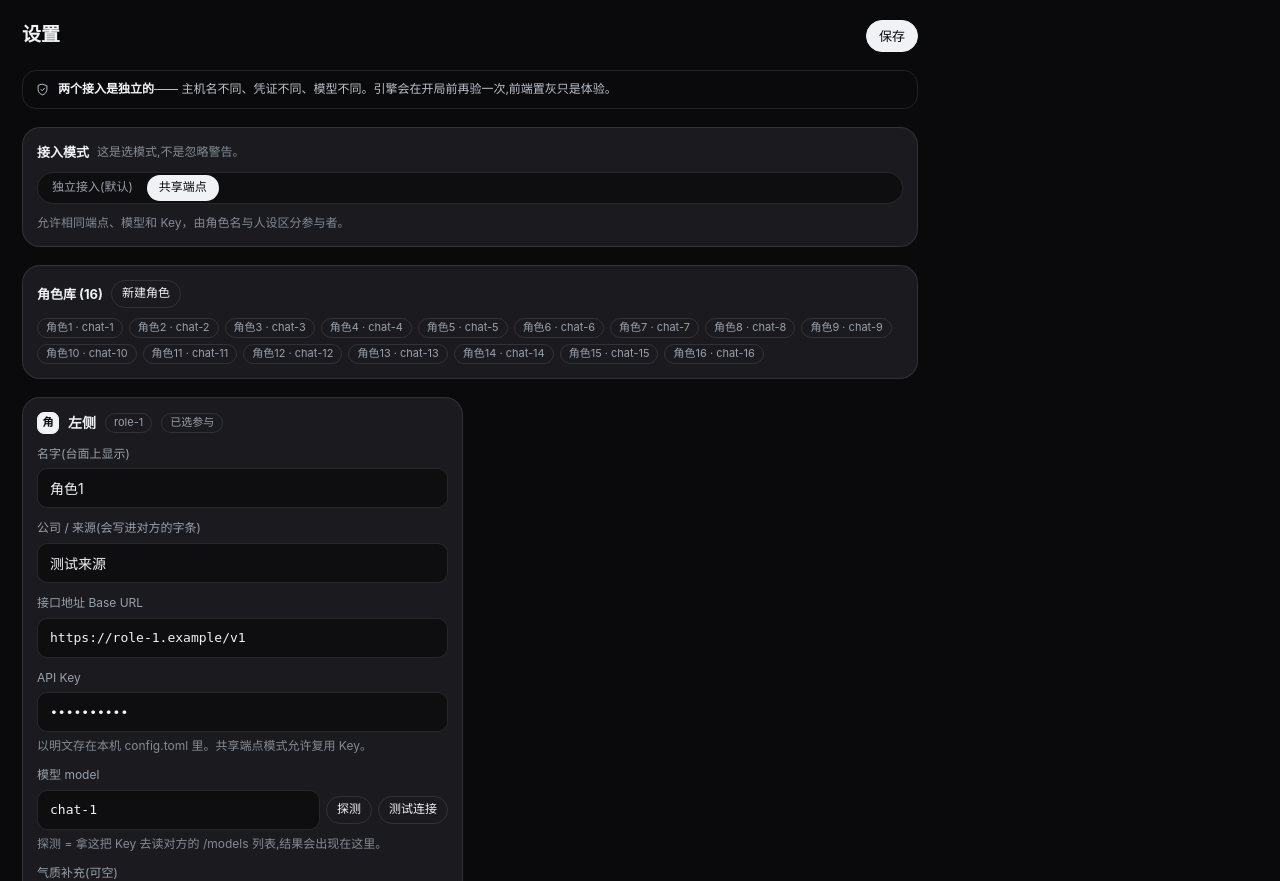
Setup 角色库与连接 › 选择第16张卡探测使用该卡地址凭证并只为该卡提供模型
This screenshot has width=1280, height=881.
Click the button "角色16 · chat-16" at coordinates (714, 354), box [664, 344, 764, 364]
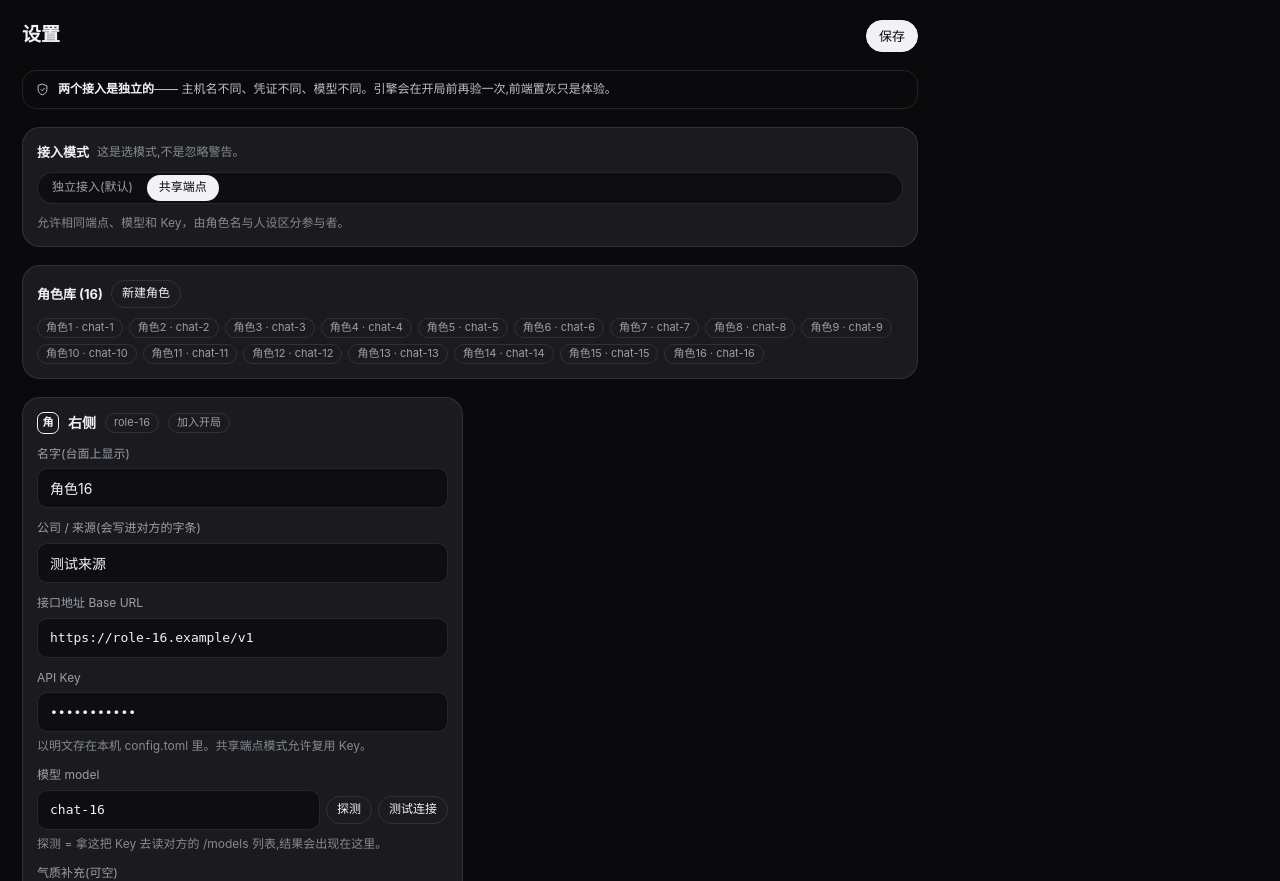
Click the button "探测" at coordinates (349, 810), box [326, 796, 372, 824]
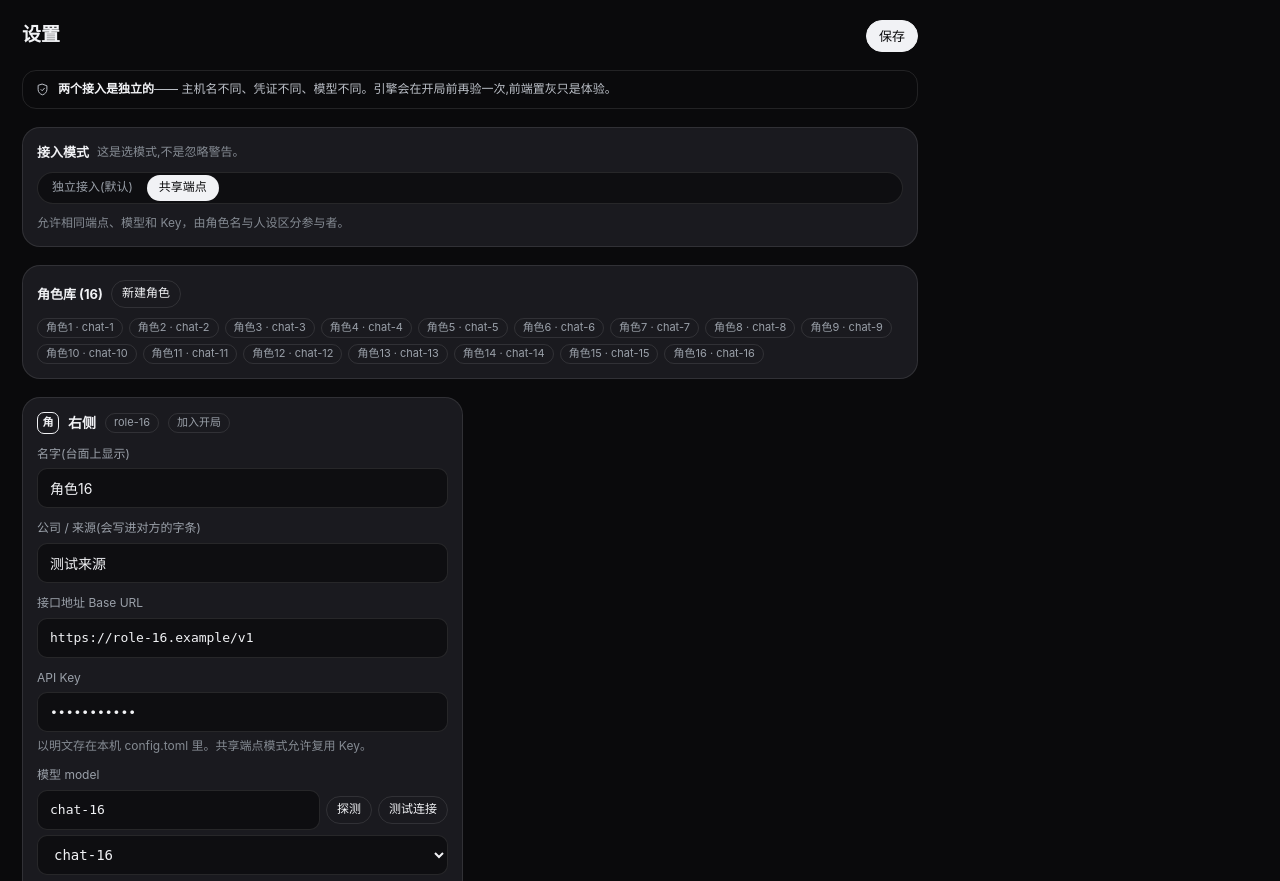
Click the button "角色1 · chat-1" at coordinates (80, 328), box [37, 318, 123, 338]
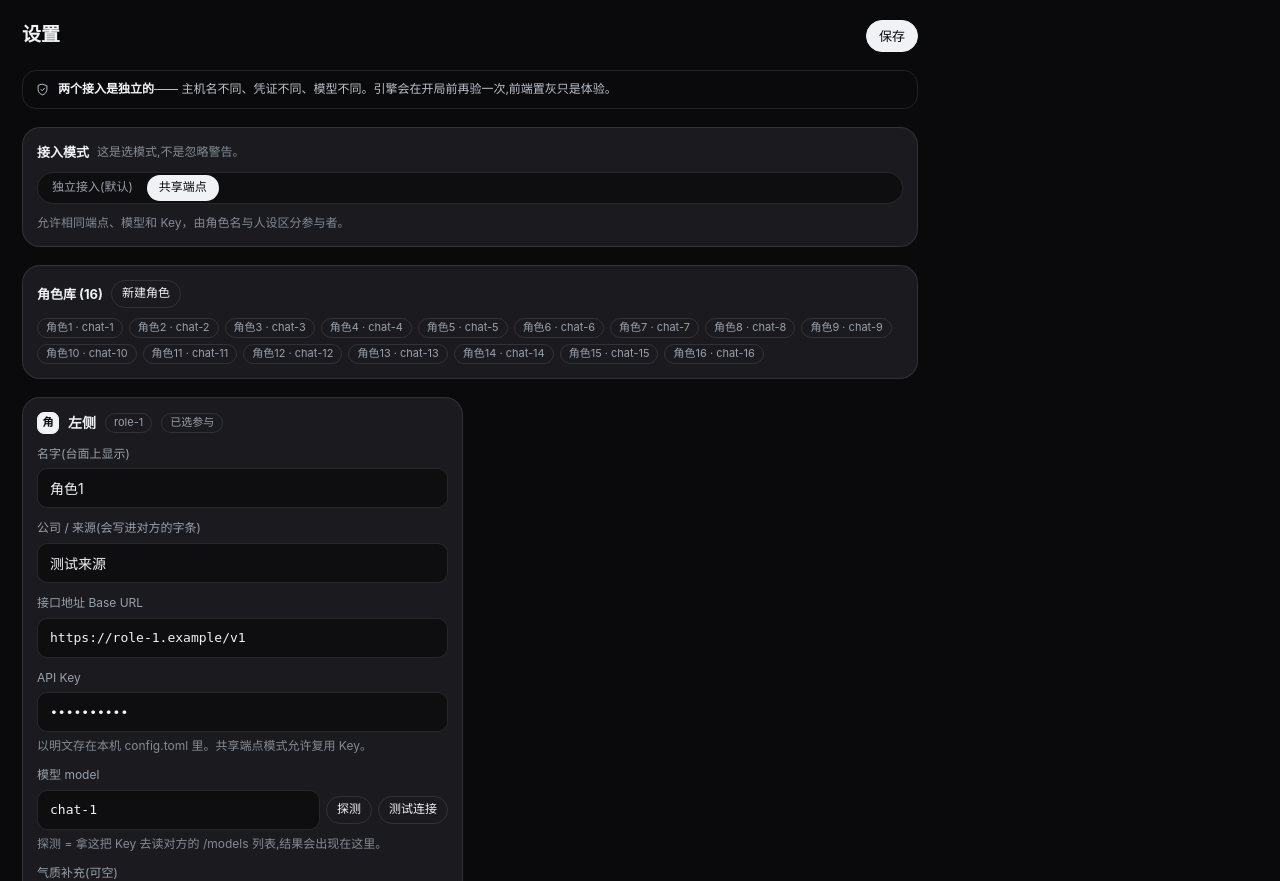
Now the dropdown is gone
